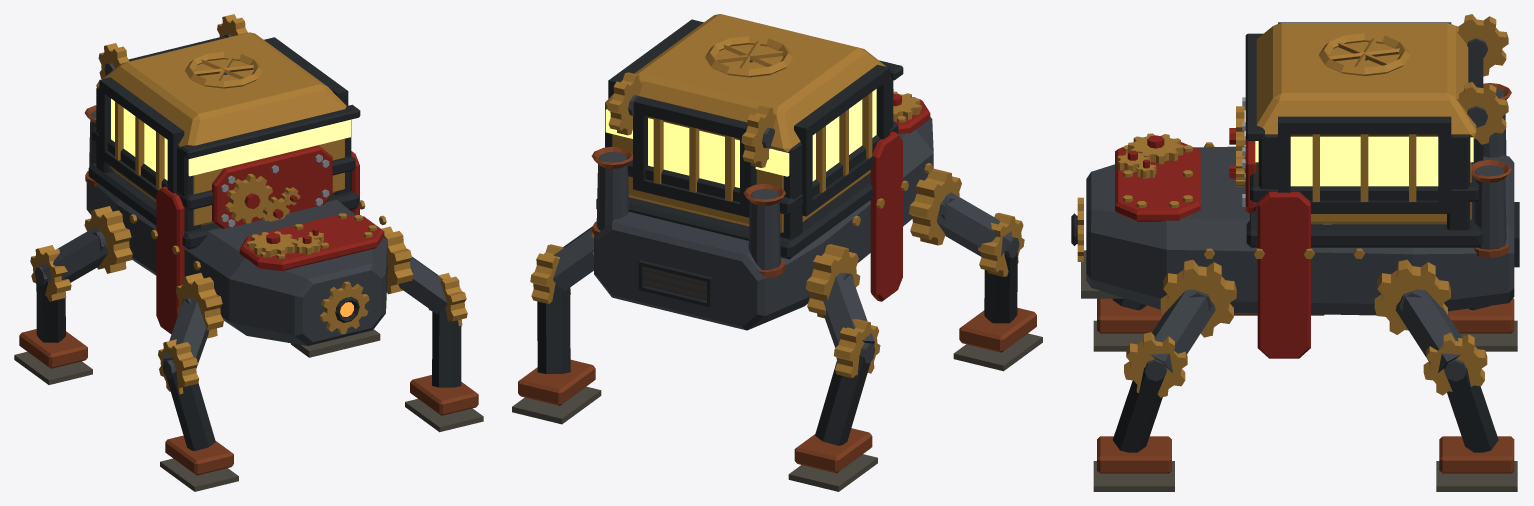
The model's file is courier_cog.fbx.
3 views of the same model, side by side, from view 1: azimuth 30°, elevation 25°; view 2: azimuth 150°, elevation 25°; view 3: azimuth 270°, elevation 25° (orthographic). The views are drawn at different scales.
Visible parts, largest first — view 1: Body, Leg_FR, Leg_RR, Leg_FL, Crate; view 2: Body, Leg_RR, Leg_FR, Leg_RL, Crate; view 3: Body, Leg_FL, Leg_RL, Crate, Leg_FR, Leg_RR.
Part boxes in pixels (x1,y1,x2,y2): Body: (84,14,387,357); Leg_FR: (158,273,238,491); Leg_RR: (14,206,132,384); Leg_FL: (381,226,483,432); Crate: (111,98,350,180); Body: (591,14,933,330); Leg_RR: (788,244,880,491); Leg_FR: (909,168,1042,371); Leg_RL: (512,226,601,424); Crate: (605,89,876,187); Body: (1071,14,1519,358); Leg_FL: (1093,259,1236,491); Leg_RL: (1374,259,1517,491); Crate: (1255,136,1473,186); Leg_FR: (1093,298,1162,351); Leg_RR: (1448,298,1517,351).
Bounding box in the file's own units: 3.71 × 3.7 × 4.19.
7 materials, 5 textured.
